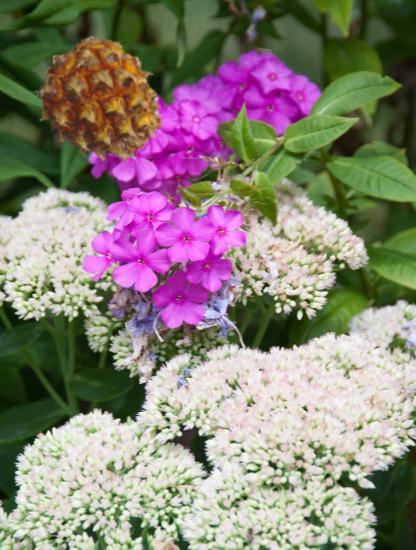Pineapple: (35, 36, 167, 168)
